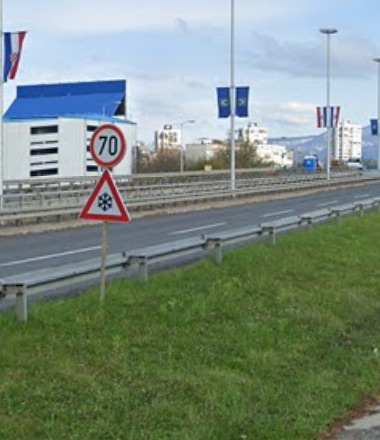Ograničenje brzine 70: (90, 124, 125, 167)
